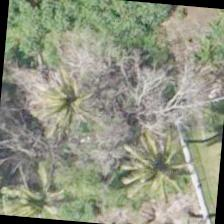Kelapa_Sawit: (22, 58, 120, 156), (111, 131, 210, 223), (0, 156, 84, 221)
